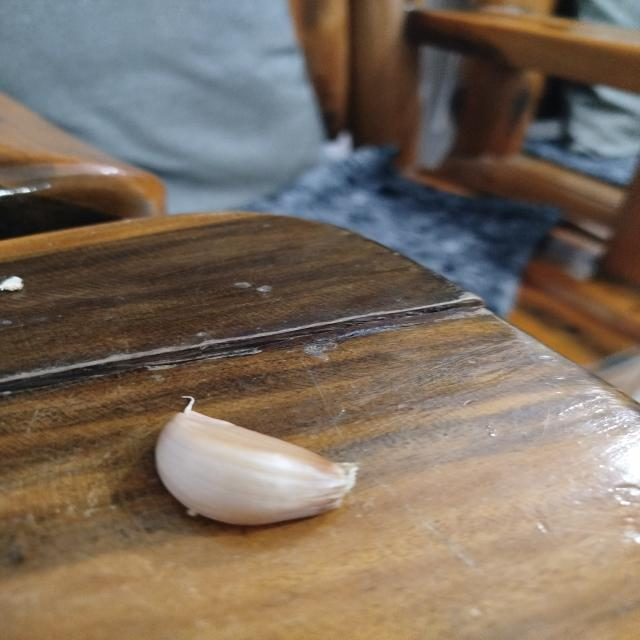garlic: (153, 395, 359, 526)
